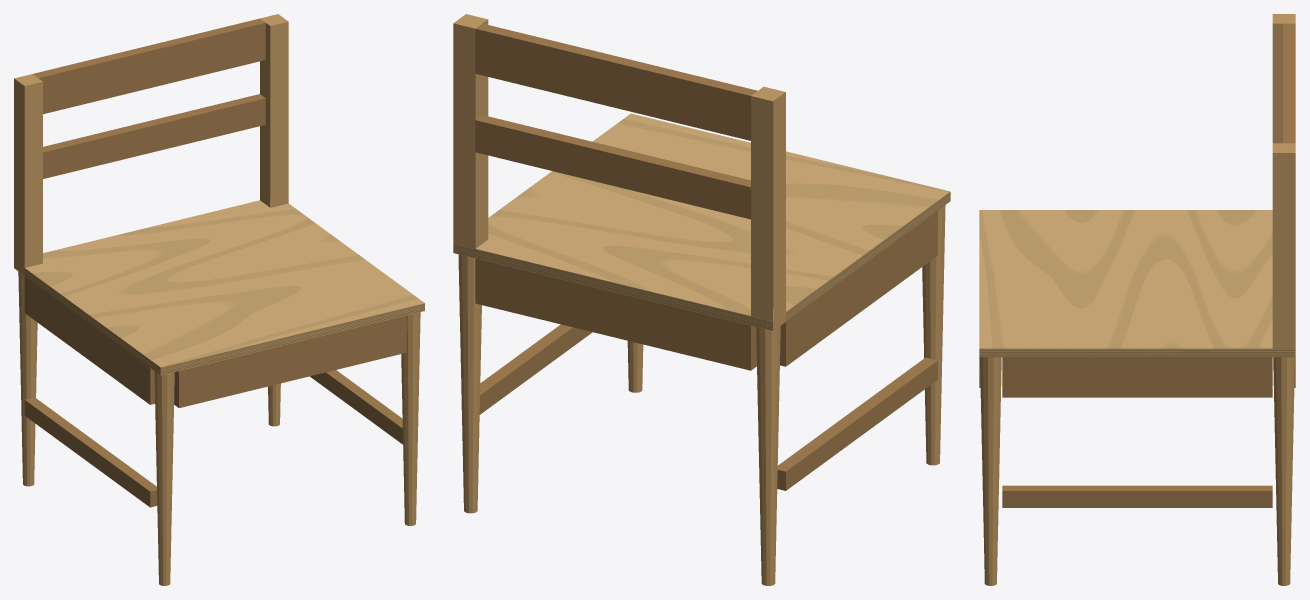
Rendered from HIN-YOK-std.glb.
The picture shows the model from 3 angles, left to right: view 1: azimuth 30°, elevation 25°; view 2: azimuth 150°, elevation 25°; view 3: azimuth 270°, elevation 25°; orthographic projection. The views are drawn at different scales.
Parts seen in each view (by area): view 1: seat:sheet:eyJtIjoicGx5Iiwic2lkZSI6ImZhY2UiLCJzZWVkIjo2LCJ2Z, back-top:pbr, rail-f:pbr, leg-bl:pbr, back-mid:pbr, leg-br:pbr, rail-l:pbr, leg-fl:pbr, stretcher-l:pbr, leg-fr:pbr, seat:sheet:eyJtIjoicGx5Iiwic2lkZSI6ImVkZ2UtbG9uZyIsInNlZWQiO, stretcher-r:pbr (+1 smaller); view 2: seat:sheet:eyJtIjoicGx5Iiwic2lkZSI6ImZhY2UiLCJzZWVkIjo2LCJ2Z, back-top:pbr, leg-bl:pbr, rail-b:pbr, leg-br:pbr, back-mid:pbr, rail-l:pbr, stretcher-l:pbr, leg-fl:pbr, seat:sheet:eyJtIjoicGx5Iiwic2lkZSI6ImVkZ2UtbG9uZyIsInNlZWQiO, stretcher-r:pbr, seat:sheet:eyJtIjoicGx5Iiwic2lkZSI6ImVkZ2UtZW5kIiwic2VlZCI6N (+1 smaller); view 3: seat:sheet:eyJtIjoicGx5Iiwic2lkZSI6ImZhY2UiLCJzZWVkIjo2LCJ2Z, rail-r:pbr, leg-br:pbr, stretcher-r:pbr, leg-fr:pbr, seat:sheet:eyJtIjoicGx5Iiwic2lkZSI6ImVkZ2UtZW5kIiwic2VlZCI6N, back-top:pbr, leg-bl:pbr.
Boxes of the visible parts, bbox=[...] form: seat:sheet:eyJtIjoicGx5Iiwic2lkZSI6ImZhY2UiLCJzZWVkIjo2LCJ2Z: bbox=[25, 198, 424, 367]; back-top:pbr: bbox=[33, 18, 265, 114]; rail-f:pbr: bbox=[174, 315, 406, 407]; leg-bl:pbr: bbox=[14, 74, 42, 486]; back-mid:pbr: bbox=[43, 94, 265, 178]; leg-br:pbr: bbox=[260, 14, 288, 426]; rail-l:pbr: bbox=[24, 276, 154, 404]; leg-fl:pbr: bbox=[154, 371, 174, 585]; stretcher-l:pbr: bbox=[24, 397, 157, 507]; leg-fr:pbr: bbox=[401, 312, 420, 525]; seat:sheet:eyJtIjoicGx5Iiwic2lkZSI6ImVkZ2UtbG9uZyIsInNlZWQiO: bbox=[160, 303, 424, 375]; stretcher-r:pbr: bbox=[310, 370, 402, 444]; seat:sheet:eyJtIjoicGx5Iiwic2lkZSI6ImZhY2UiLCJzZWVkIjo2LCJ2Z: bbox=[476, 113, 950, 320]; back-top:pbr: bbox=[475, 23, 757, 140]; leg-bl:pbr: bbox=[751, 86, 785, 585]; rail-b:pbr: bbox=[475, 258, 756, 370]; leg-br:pbr: bbox=[453, 14, 488, 513]; back-mid:pbr: bbox=[475, 115, 750, 219]; rail-l:pbr: bbox=[780, 210, 937, 366]; stretcher-l:pbr: bbox=[777, 357, 937, 490]; leg-fl:pbr: bbox=[922, 205, 945, 465]; seat:sheet:eyJtIjoicGx5Iiwic2lkZSI6ImVkZ2UtbG9uZyIsInNlZWQiO: bbox=[453, 243, 772, 330]; stretcher-r:pbr: bbox=[479, 324, 592, 414]; seat:sheet:eyJtIjoicGx5Iiwic2lkZSI6ImVkZ2UtZW5kIiwic2VlZCI6N: bbox=[773, 192, 950, 330]; seat:sheet:eyJtIjoicGx5Iiwic2lkZSI6ImZhY2UiLCJzZWVkIjo2LCJ2Z: bbox=[979, 210, 1272, 348]; rail-r:pbr: bbox=[1002, 357, 1272, 397]; leg-br:pbr: bbox=[1272, 143, 1295, 585]; stretcher-r:pbr: bbox=[1002, 485, 1272, 507]; leg-fr:pbr: bbox=[980, 357, 1001, 585]; seat:sheet:eyJtIjoicGx5Iiwic2lkZSI6ImVkZ2UtZW5kIiwic2VlZCI6N: bbox=[979, 348, 1295, 357]; back-top:pbr: bbox=[1283, 23, 1295, 143]; leg-bl:pbr: bbox=[1272, 14, 1295, 143].
Size of the model in its own units: 0.5201 by 0.76 by 0.5.
Materials: 15 (3 with a texture image).
